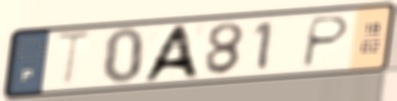0: (97, 27, 149, 86)
1: (250, 20, 275, 72)
8: (203, 21, 246, 77)
A: (138, 22, 203, 83)
P: (298, 14, 353, 71)
T: (53, 30, 96, 90)
